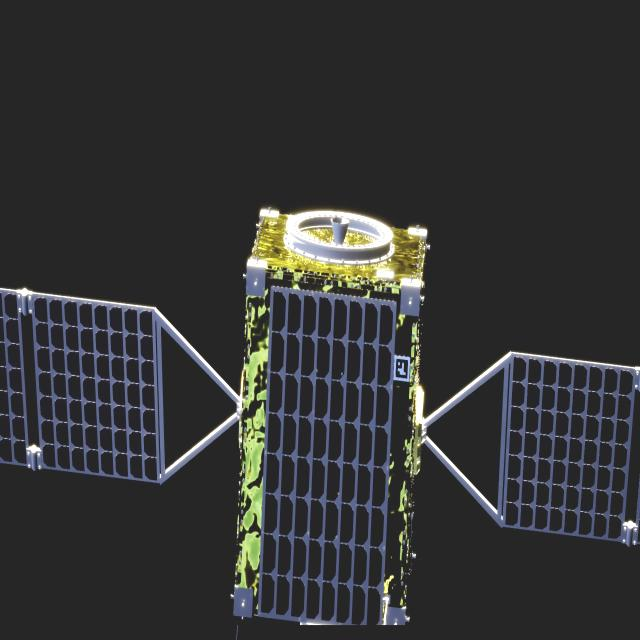medium_debris: (0, 210, 640, 627)
